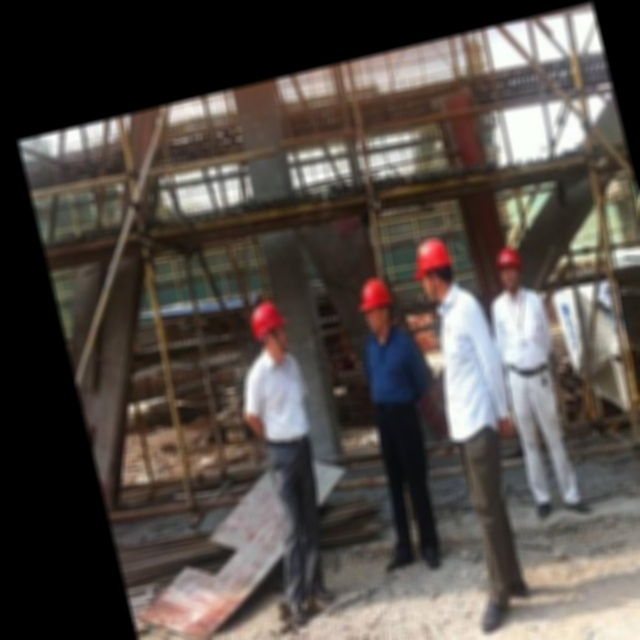Sin_Chaleco: (235, 345, 317, 448), (485, 283, 561, 379), (355, 320, 430, 412)
